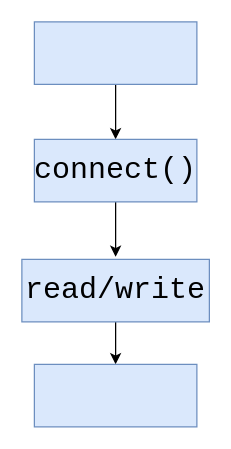
Some shapes in this 231 by 449 pixel diagram are drawn without their labels. The shapes that lost their labels are listed below. From the top down, each one's box as (x1, y1, x2, y2) in pixels, then its label:
(33, 21, 197, 84): socket()
(33, 363, 197, 427): close()
